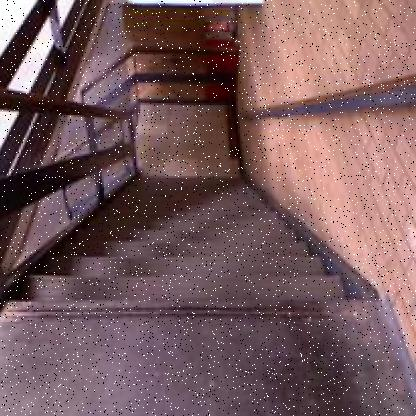stair_down: (7, 219, 374, 340)
